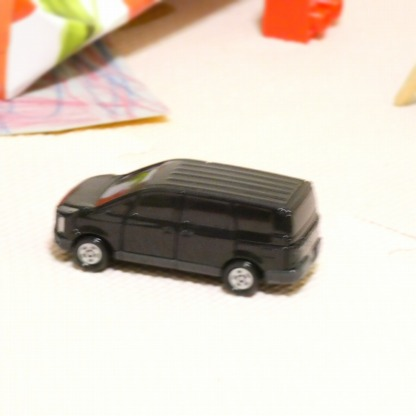car: (48, 156, 321, 296)
